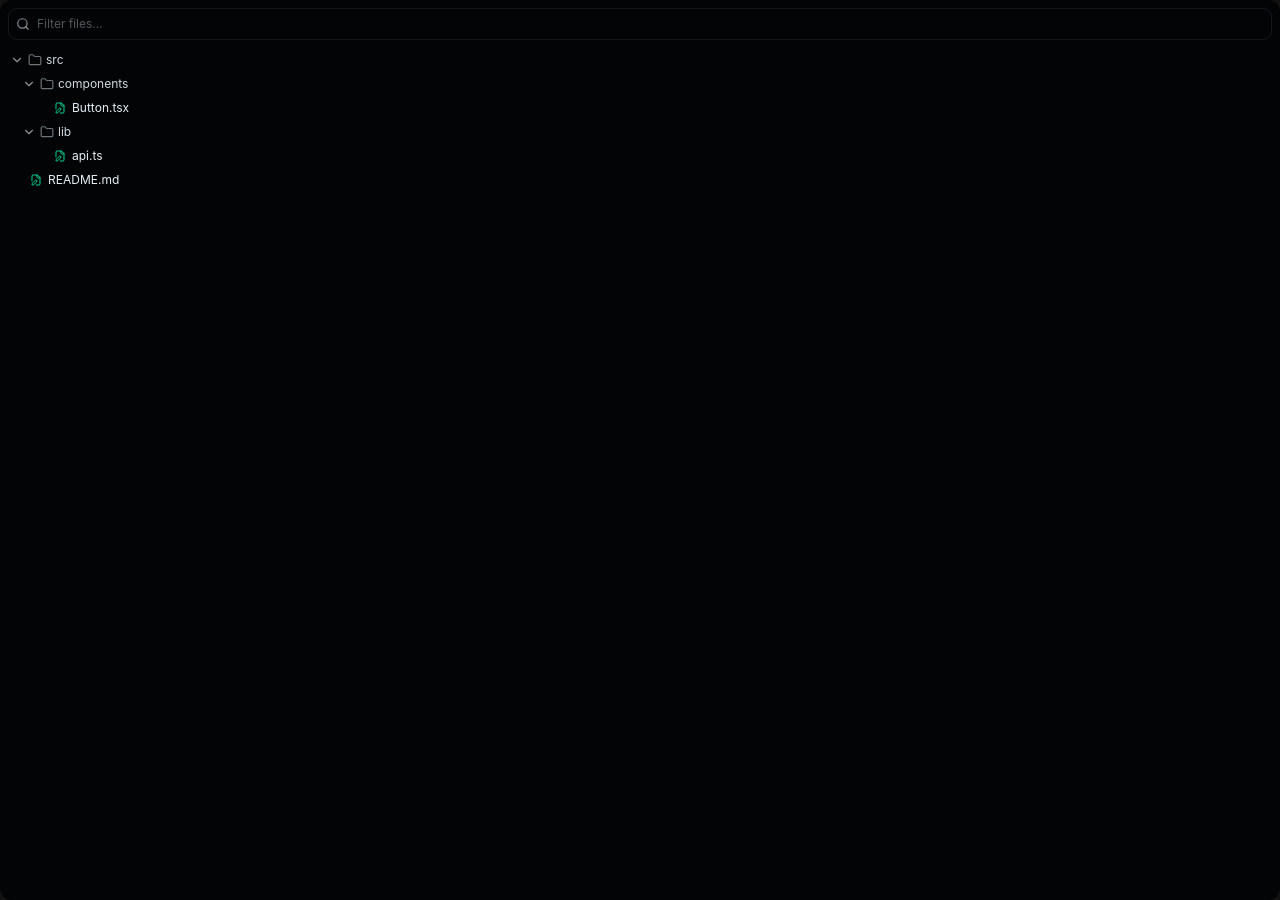
Test: DiffFileTree › filtering › says nothing matched rather than showing an empty pane
The image size is (1280, 900).
Type "zzzz" into the field with placeholder "Filter files…" at x=640, y=24, box [8,8,1272,40]
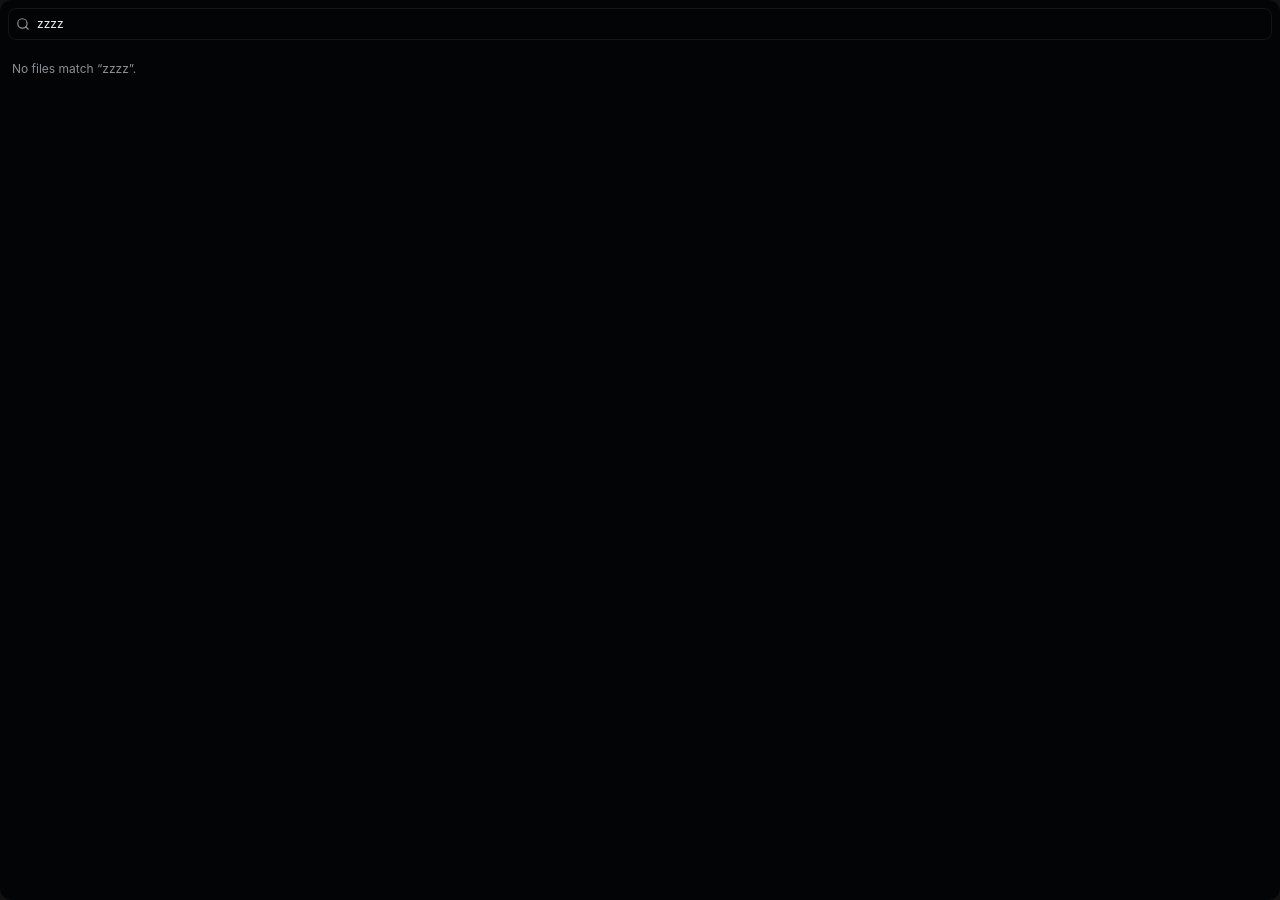
Expected: the text "No files match “zzzz”." is shown, [12,61,136,76]
